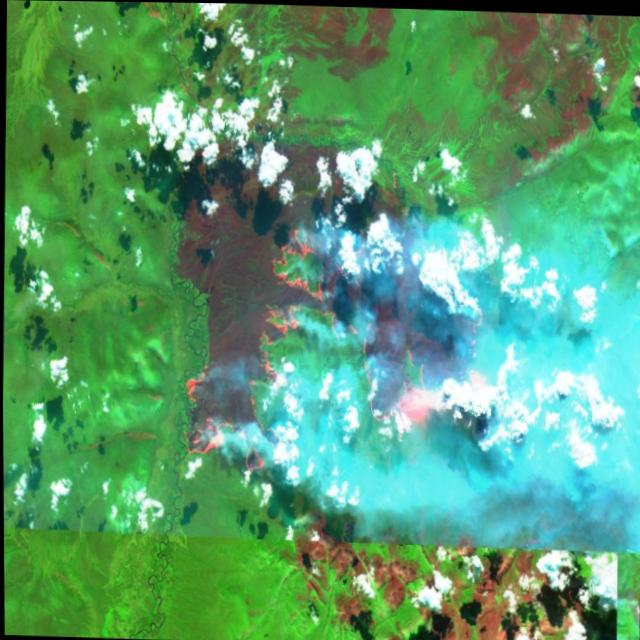fire: (175, 112, 503, 491)
